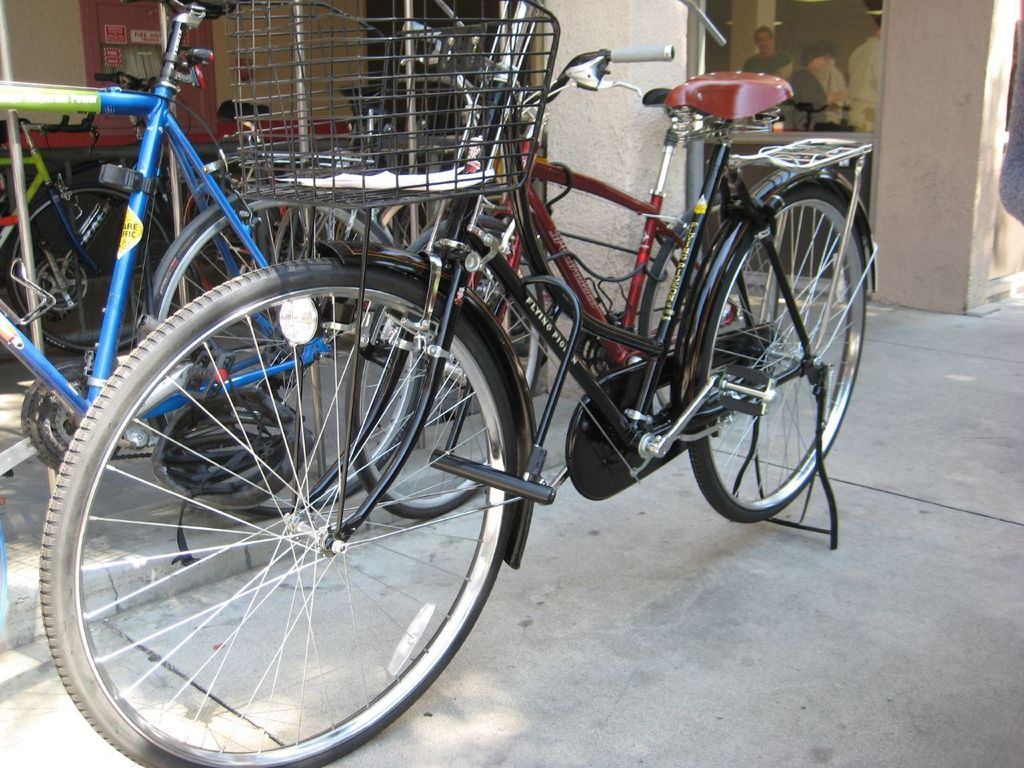Bike_toward: (50, 12, 818, 742)
